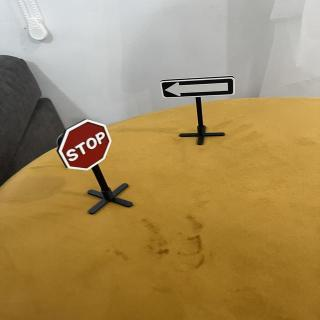sign_oneway_left: (157, 76, 237, 100)
sign_stop: (57, 118, 114, 173)
